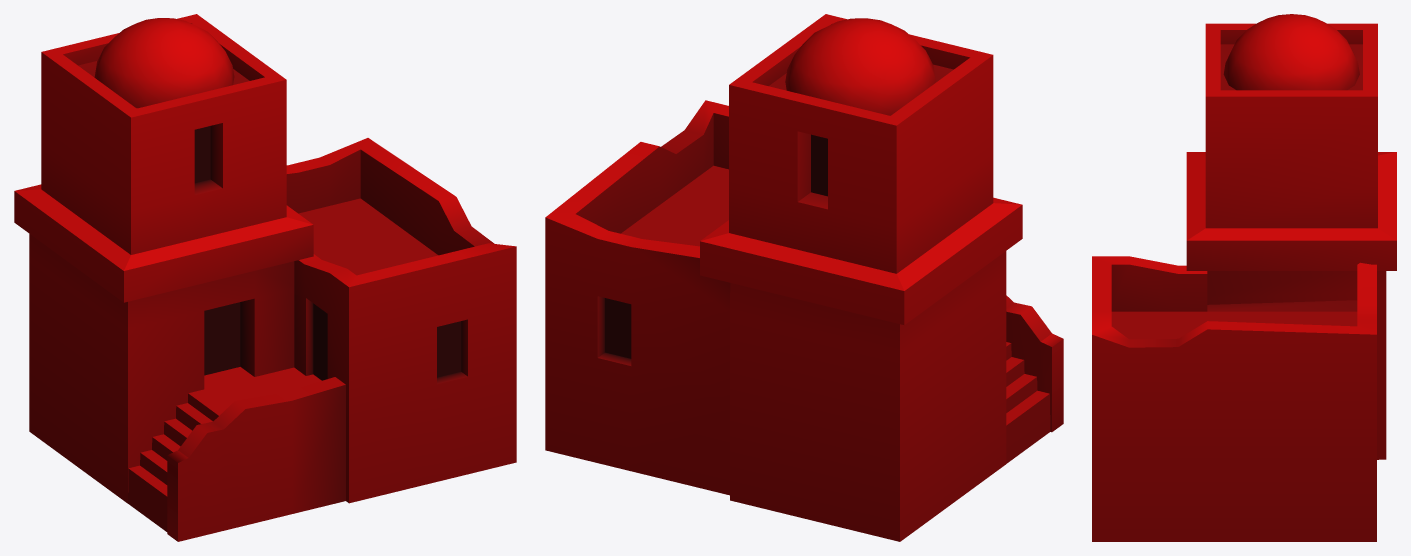
Rendered from buildings-historical-desertbuildingold_v5.fbx.
3 views of the same model, side by side, from view 1: azimuth 30°, elevation 25°; view 2: azimuth 150°, elevation 25°; view 3: azimuth 270°, elevation 25° (orthographic). The views are drawn at different scales.
Visible parts, largest first — view 1: DesertBuildingOld_v5; view 2: DesertBuildingOld_v5; view 3: DesertBuildingOld_v5.
Boxes of the visible parts, x1,y1,x2,y2 form: DesertBuildingOld_v5: (14,14,516,541); DesertBuildingOld_v5: (545,14,1063,541); DesertBuildingOld_v5: (1092,14,1396,541).
Size of the model in its own units: 16.72 by 19.64 by 13.4.
